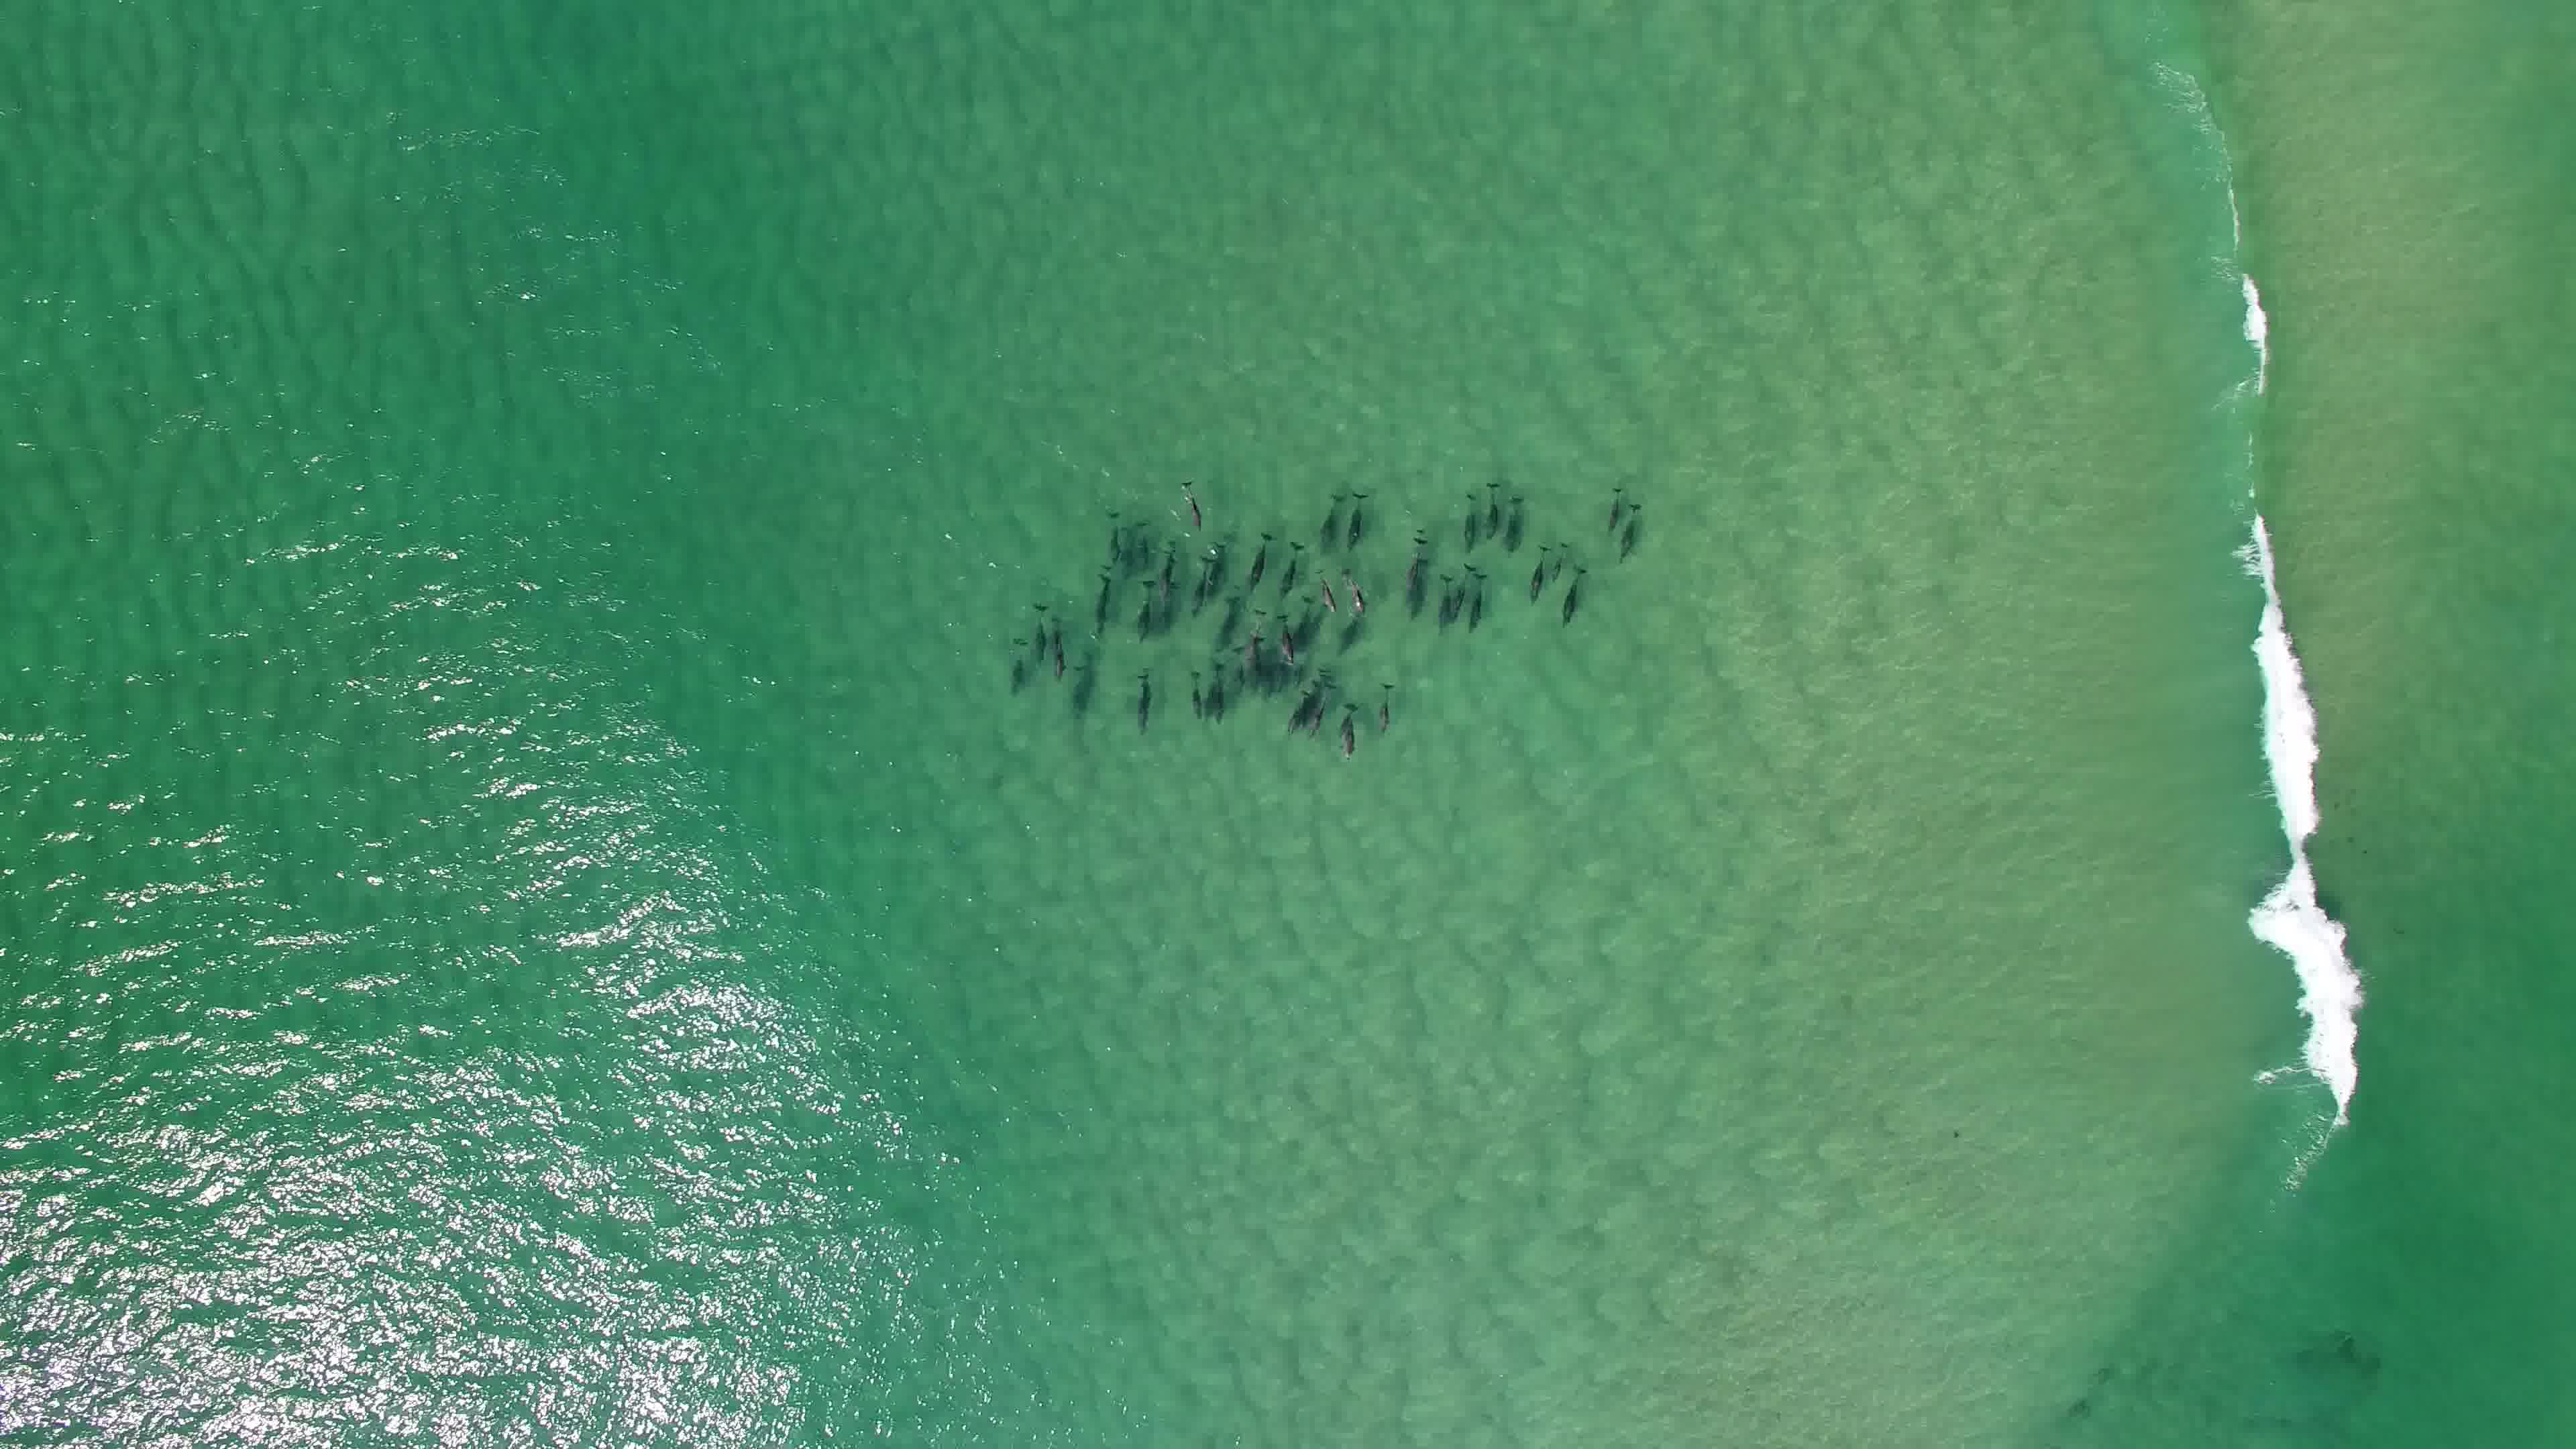dolphin: (1553, 550, 1598, 639), (1392, 525, 1433, 619), (1196, 655, 1238, 731), (1610, 494, 1651, 570), (1336, 485, 1380, 552), (1460, 563, 1499, 639), (1235, 525, 1277, 594), (1311, 479, 1350, 552), (1270, 531, 1311, 600), (1327, 694, 1368, 763), (1592, 474, 1631, 541), (1329, 561, 1371, 621), (1430, 557, 1461, 637), (1122, 667, 1159, 731), (1368, 676, 1403, 740), (1207, 534, 1244, 594), (1445, 557, 1477, 625), (1302, 674, 1334, 741), (1024, 589, 1051, 669), (1283, 671, 1315, 736), (1180, 662, 1212, 727), (1185, 550, 1215, 619), (1502, 478, 1527, 561), (1523, 538, 1552, 610), (1269, 605, 1300, 669), (1240, 609, 1267, 685), (1000, 630, 1030, 695), (1477, 469, 1502, 547), (1168, 471, 1205, 522), (1454, 483, 1483, 550), (1154, 536, 1178, 610), (1046, 610, 1070, 679), (1543, 533, 1573, 586), (1088, 566, 1115, 626), (1132, 575, 1155, 635), (1099, 517, 1127, 561)
